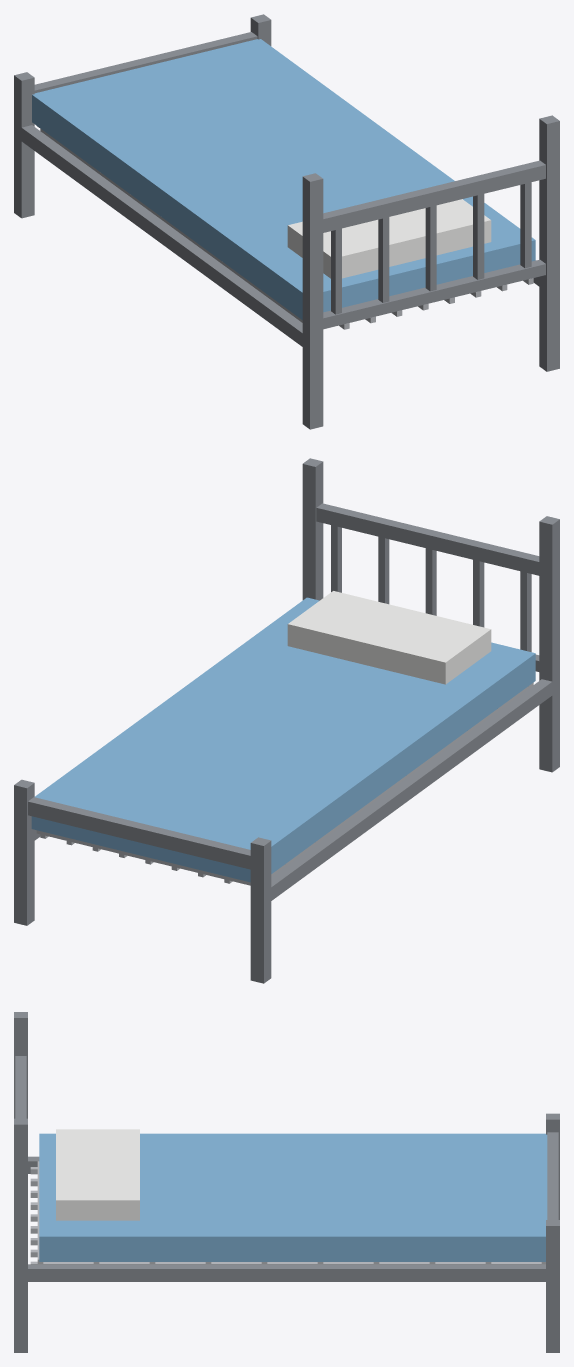
Rendered from vono-spring-bed.glb.
3 views of the same model, one above another, from view 1: azimuth 30°, elevation 25°; view 2: azimuth 150°, elevation 25°; view 3: azimuth 270°, elevation 25° (orthographic). The views are drawn at different scales.
Visible parts, largest first — view 1: vono-spring-bed_Cube.033, vono-spring-bed_Cube.012, vono-spring-bed_Cube.034, vono-spring-bed_Cube, vono-spring-bed_Cube.002, vono-spring-bed_Cube.004, vono-spring-bed_Cube.005, vono-spring-bed_Cube.001, vono-spring-bed_Cube.011, vono-spring-bed_Cube.009, vono-spring-bed_Cube.010, vono-spring-bed_Cube.007 (+4 smaller); view 2: vono-spring-bed_Cube.033, vono-spring-bed_Cube.034, vono-spring-bed_Cube.012, vono-spring-bed_Cube, vono-spring-bed_Cube.004, vono-spring-bed_Cube.011, vono-spring-bed_Cube.001, vono-spring-bed_Cube.002, vono-spring-bed_Cube.003, vono-spring-bed_Cube.006, vono-spring-bed_Cube.014, vono-spring-bed_Cube.032 (+4 smaller); view 3: vono-spring-bed_Cube.033, vono-spring-bed_Cube.013, vono-spring-bed_Cube.034, vono-spring-bed_Cube.002, vono-spring-bed_Cube.003, vono-spring-bed_Cube.022, vono-spring-bed_Cube.011, vono-spring-bed_Cube, vono-spring-bed_Cube.004, vono-spring-bed_Cube.001.
Part boxes in pixels (x1,y1,x2,y2): vono-spring-bed_Cube.033: (32, 39, 535, 319); vono-spring-bed_Cube.012: (21, 125, 302, 346); vono-spring-bed_Cube.034: (287, 199, 491, 278); vono-spring-bed_Cube: (302, 173, 323, 429); vono-spring-bed_Cube.002: (539, 115, 559, 371); vono-spring-bed_Cube.004: (303, 160, 545, 235); vono-spring-bed_Cube.005: (303, 259, 545, 331); vono-spring-bed_Cube.001: (14, 72, 34, 218); vono-spring-bed_Cube.011: (14, 32, 257, 106); vono-spring-bed_Cube.009: (473, 194, 484, 279); vono-spring-bed_Cube.010: (520, 182, 531, 268); vono-spring-bed_Cube.007: (378, 217, 389, 302); vono-spring-bed_Cube.033: (31, 597, 535, 882); vono-spring-bed_Cube.034: (287, 591, 491, 684); vono-spring-bed_Cube.012: (271, 679, 552, 900); vono-spring-bed_Cube: (539, 516, 559, 772); vono-spring-bed_Cube.004: (316, 503, 559, 578); vono-spring-bed_Cube.011: (28, 797, 270, 872); vono-spring-bed_Cube.001: (250, 837, 271, 983); vono-spring-bed_Cube.002: (302, 458, 323, 600); vono-spring-bed_Cube.003: (14, 779, 34, 925); vono-spring-bed_Cube.006: (520, 571, 531, 651); vono-spring-bed_Cube.014: (271, 682, 533, 876); vono-spring-bed_Cube.032: (36, 830, 250, 885); vono-spring-bed_Cube.033: (39, 1133, 547, 1261); vono-spring-bed_Cube.013: (28, 1264, 545, 1281); vono-spring-bed_Cube.034: (56, 1129, 139, 1220); vono-spring-bed_Cube.002: (14, 1118, 27, 1352); vono-spring-bed_Cube.003: (546, 1220, 559, 1352); vono-spring-bed_Cube.022: (30, 1261, 541, 1264); vono-spring-bed_Cube.011: (547, 1132, 558, 1250); vono-spring-bed_Cube: (14, 1012, 27, 1118); vono-spring-bed_Cube.004: (15, 1056, 26, 1175); vono-spring-bed_Cube.001: (546, 1113, 559, 1219).
Size of the model in its own units: 0.95 by 0.9 by 1.95.
